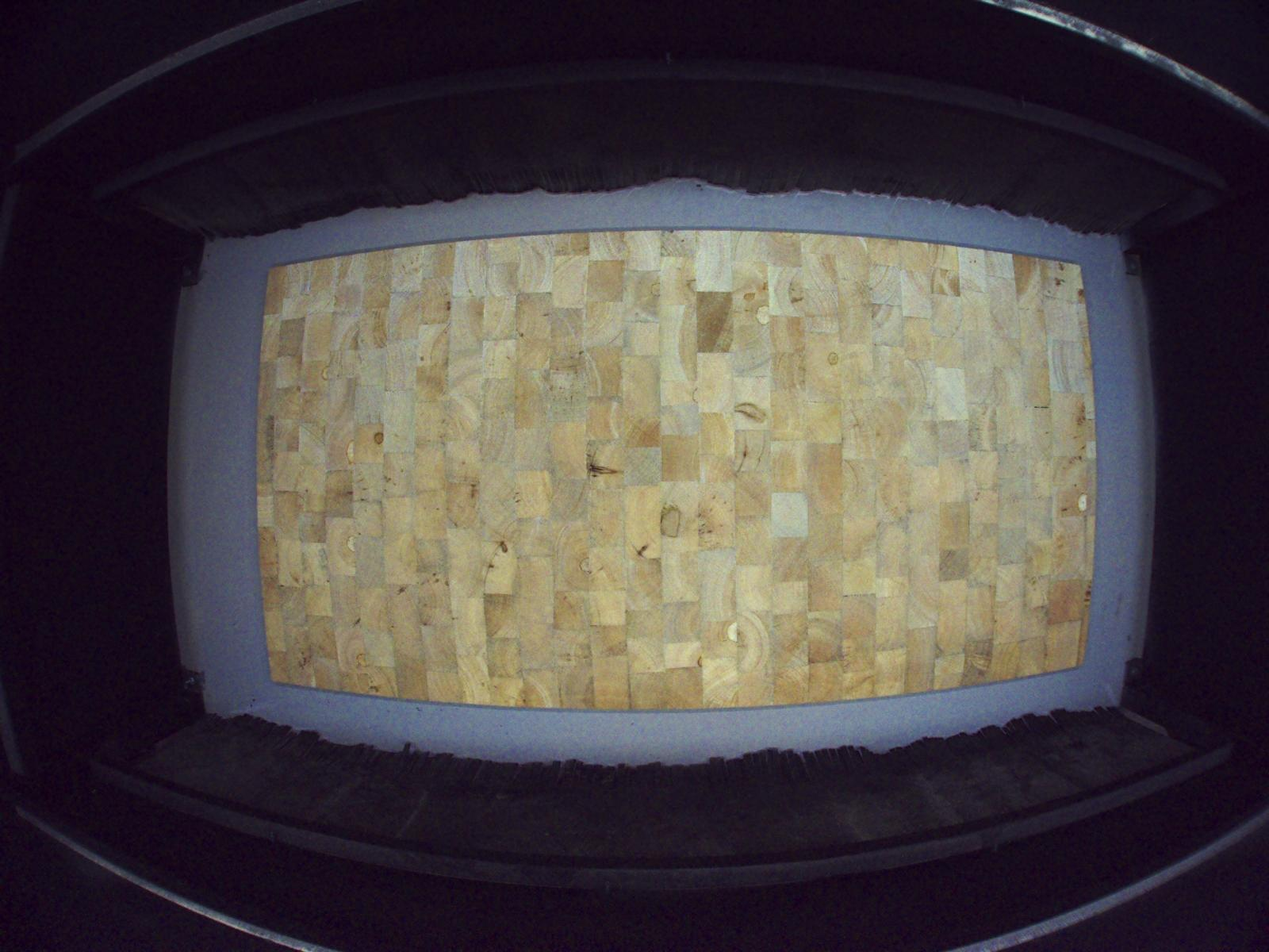sheck_ecuatoriano: (586, 445, 618, 485), (736, 430, 750, 472), (630, 541, 650, 560)
